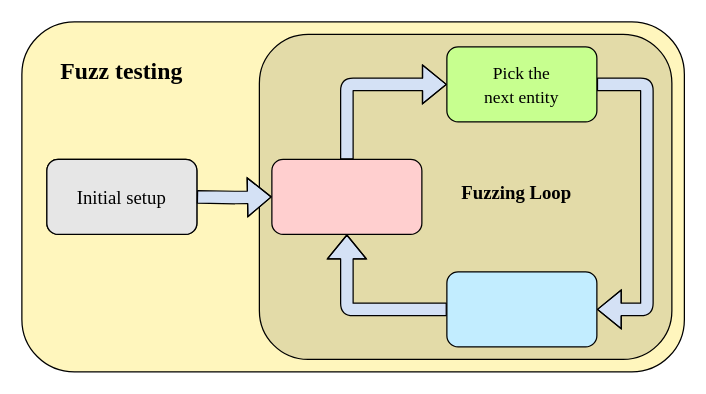
Image size: 706x394. Some labels were removed from this diagram. The box of each missing label's shape, as (x1, y1, x2, y2) in pixels:
Collect queue: (271, 158, 422, 234)
Fuzz it: (446, 271, 597, 347)
